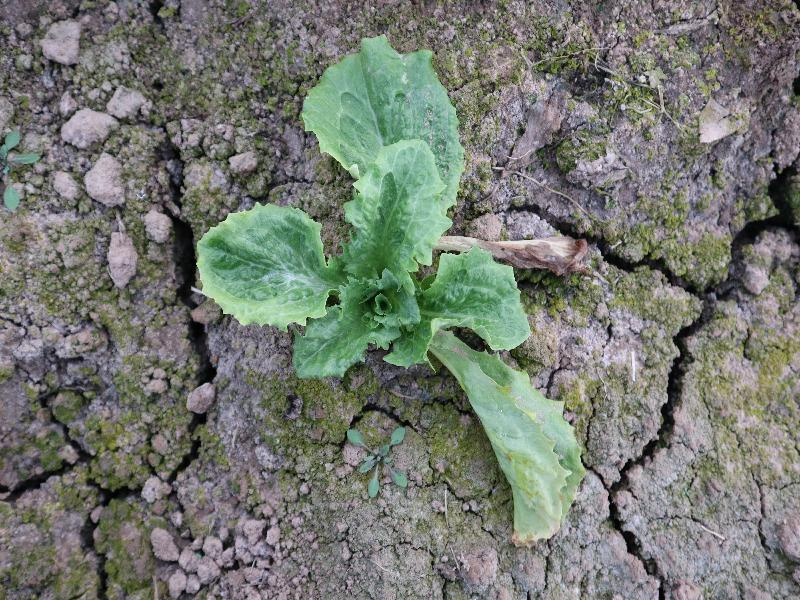lettuce: (194, 34, 586, 547)
